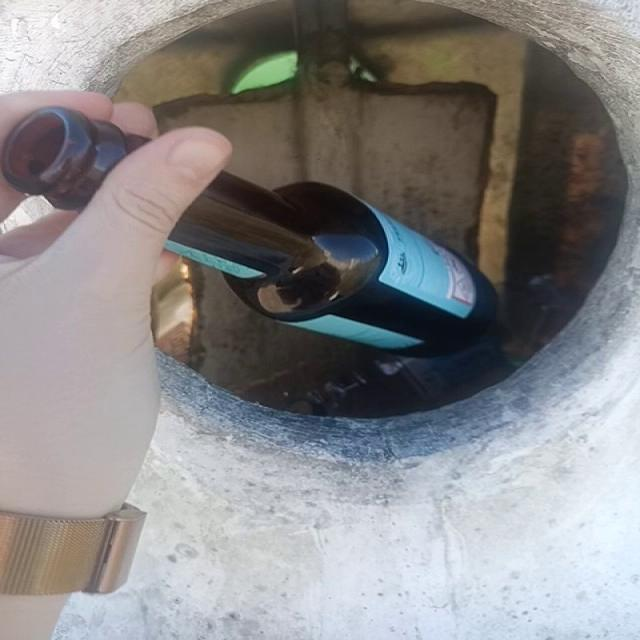Glass: (165, 172, 493, 352), (1, 107, 147, 210)
